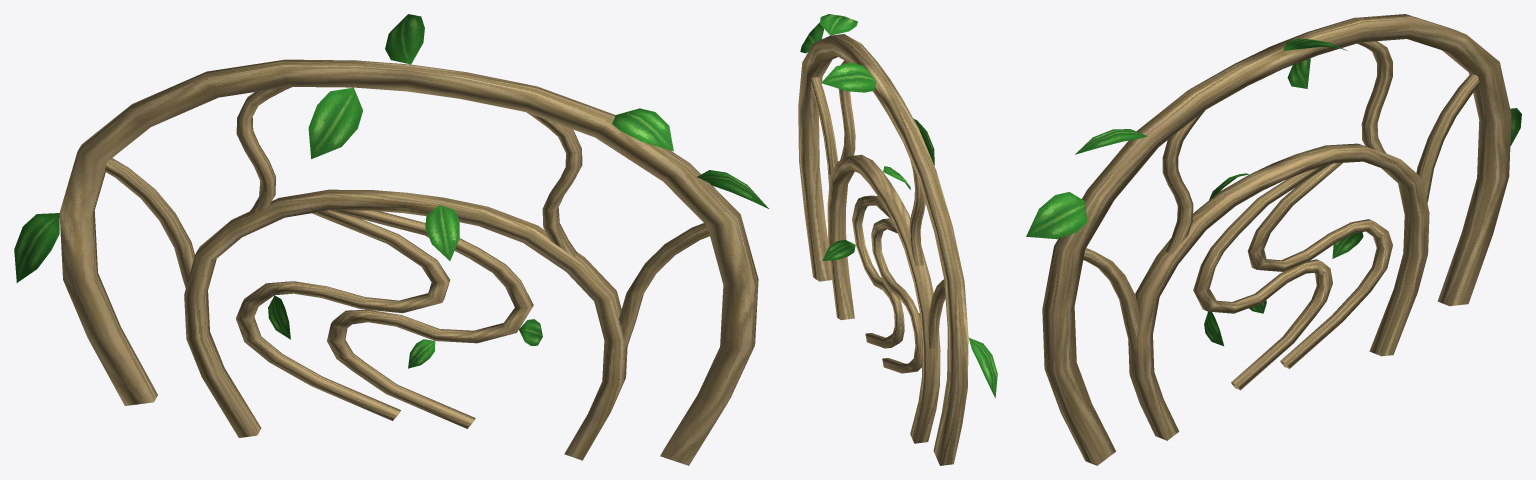
File: EKH_BARRELROOM_PS_JA1_LOFT16.fbx
3 renders of one model, left to right at view 1: azimuth 30°, elevation 25°; view 2: azimuth 150°, elevation 25°; view 3: azimuth 270°, elevation 25°, orthographic. The views are drawn at different scales.
Parts seen in each view (by area): view 1: EKH_BARRELROOM_PS_JA1_LOFT16; view 2: EKH_BARRELROOM_PS_JA1_LOFT16; view 3: EKH_BARRELROOM_PS_JA1_LOFT16.
Boxes of the visible parts, x1,y1,x2,y2 form: EKH_BARRELROOM_PS_JA1_LOFT16: (14,14,768,465); EKH_BARRELROOM_PS_JA1_LOFT16: (798,14,997,465); EKH_BARRELROOM_PS_JA1_LOFT16: (1026,14,1521,465).
Size of the model in its own units: 18173 by 14392 by 17211.
2 materials, 2 textured.
